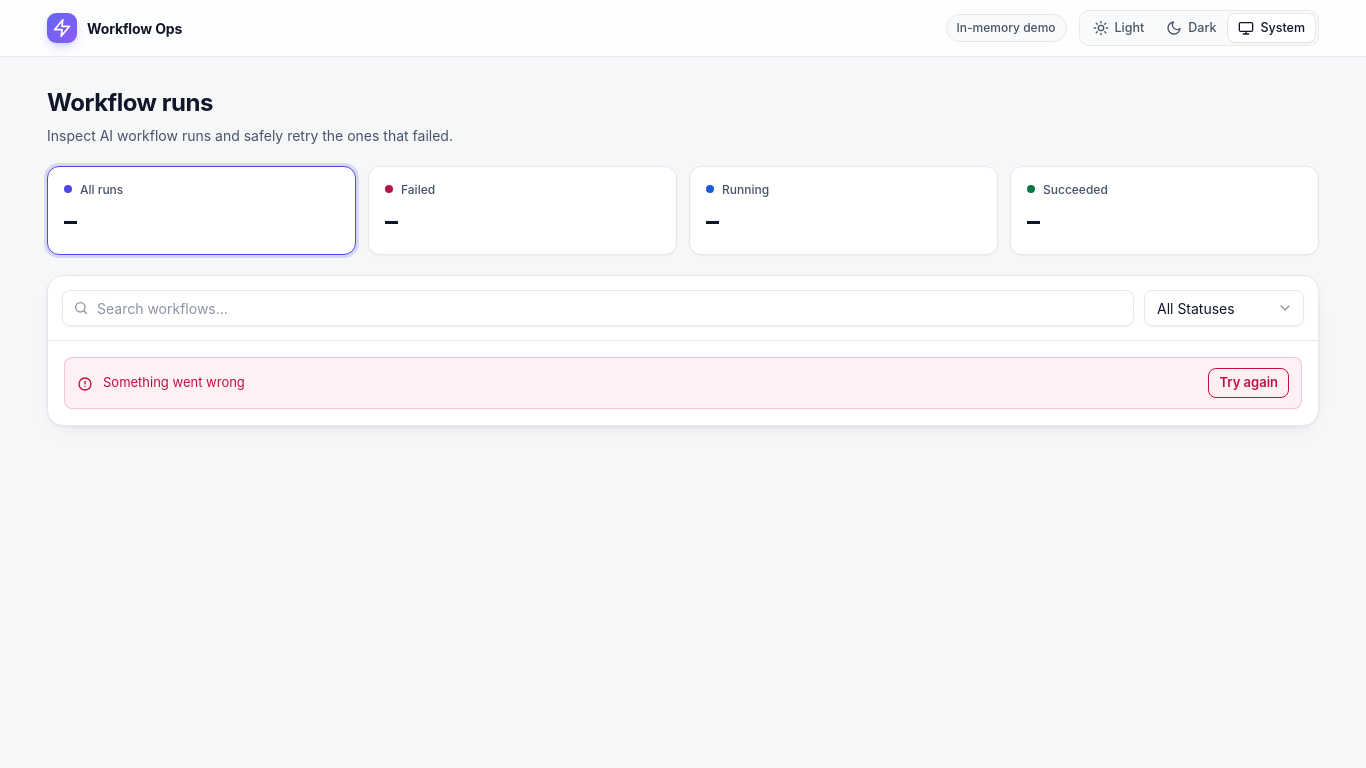
Test: Workflow runs console › shows an error state for the list and recovers on "Try again"
Expected: the message shows "Something went wrong", x1=103 y1=374 x2=245 y2=390
Click the button "Try again". click: (1249, 383)
box: x1=1208 y1=368 x2=1289 y2=398
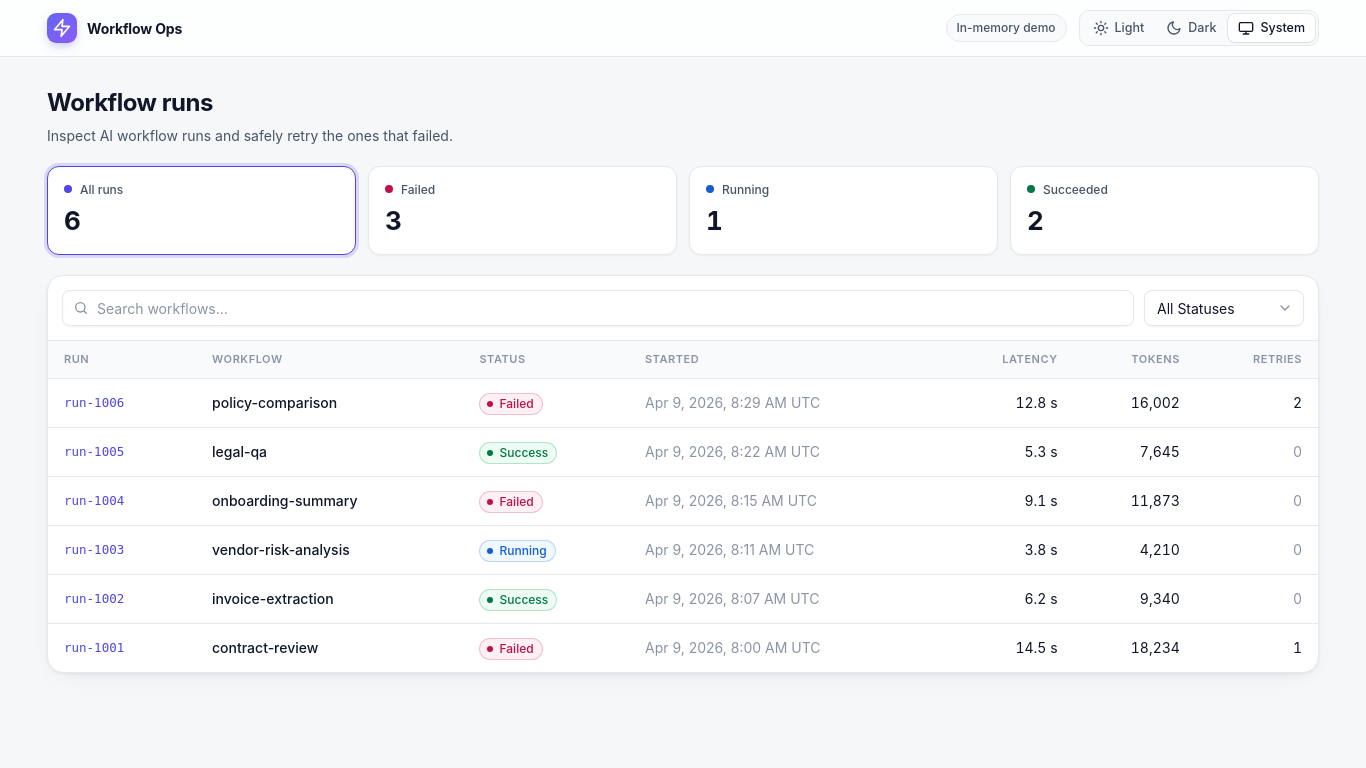
Expected: the table is shown, x1=48 y1=341 x2=1318 y2=672
